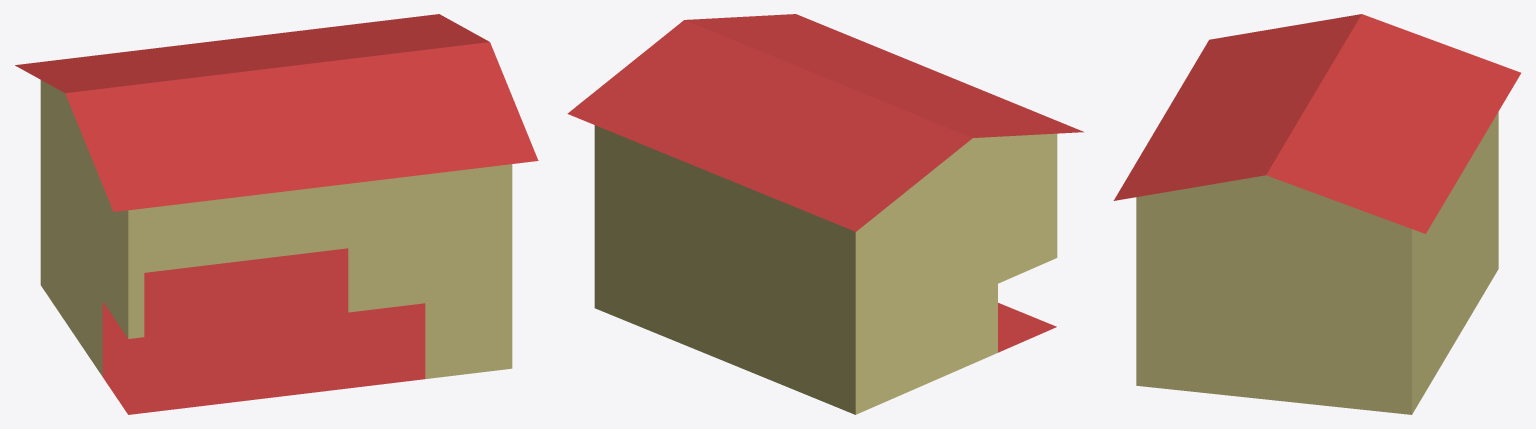
3 views of the same model, side by side, from view 1: azimuth 30°, elevation 25°; view 2: azimuth 150°, elevation 25°; view 3: azimuth 270°, elevation 25° (orthographic). The views are drawn at different scales.
Bounding box in the file's own units: 18.17 × 16.11 × 10.13.
